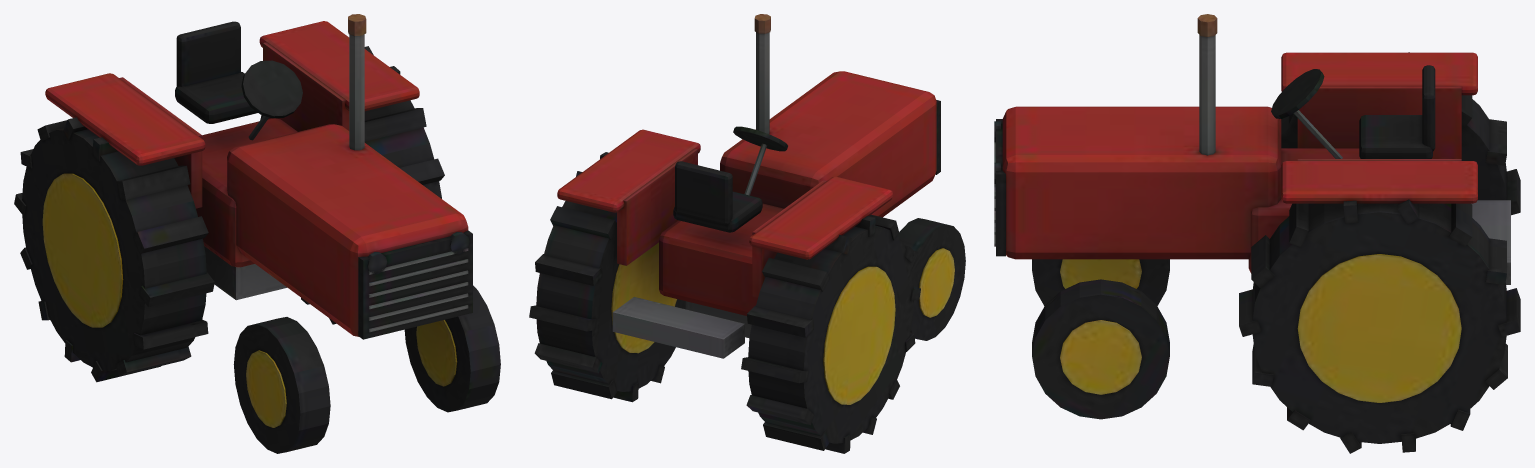
Rendered from tractor.glb.
3 renders of one model, left to right at view 1: azimuth 30°, elevation 25°; view 2: azimuth 150°, elevation 25°; view 3: azimuth 270°, elevation 25°, orthographic. The views are drawn at different scales.
Parts seen in each view (by area): view 1: tractor; view 2: tractor; view 3: tractor.
Part boxes in pixels (x1,y1,x2,y2): tractor: (14, 14, 500, 453); tractor: (529, 14, 965, 453); tractor: (994, 14, 1520, 453).
Bounding box in the file's own units: 2.19 × 2.56 × 3.21.
1 material, 1 textured.
